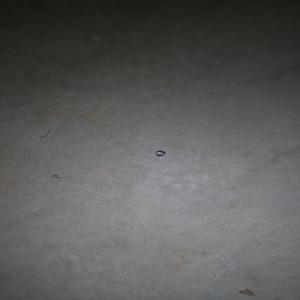Nut: (154, 151, 165, 157)
